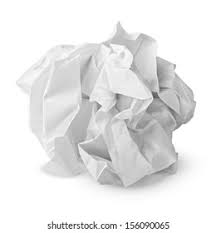crumpled paper: (10, 19, 201, 189)
